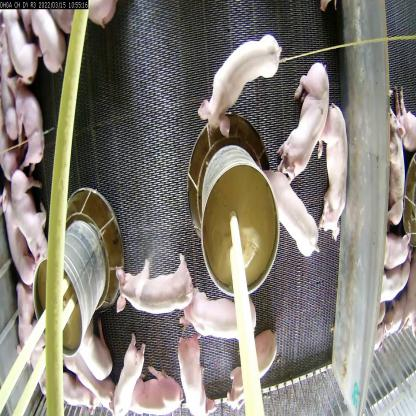Pig: (202, 28, 278, 136), (257, 161, 320, 263), (112, 256, 203, 322), (190, 275, 257, 353), (317, 102, 354, 233), (286, 67, 328, 182), (5, 172, 50, 270), (174, 317, 218, 415), (235, 321, 280, 408), (10, 76, 46, 172), (66, 350, 117, 416), (76, 317, 122, 385), (32, 0, 71, 76), (110, 340, 148, 415), (2, 9, 35, 91), (132, 372, 182, 416)
